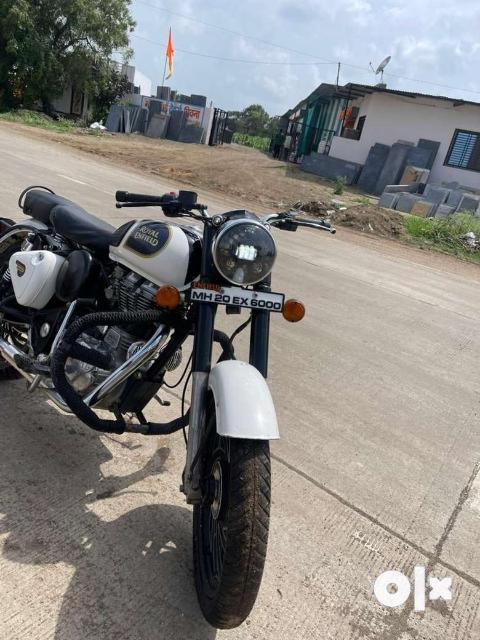Indian_Number_Plate: (190, 280, 285, 312)
